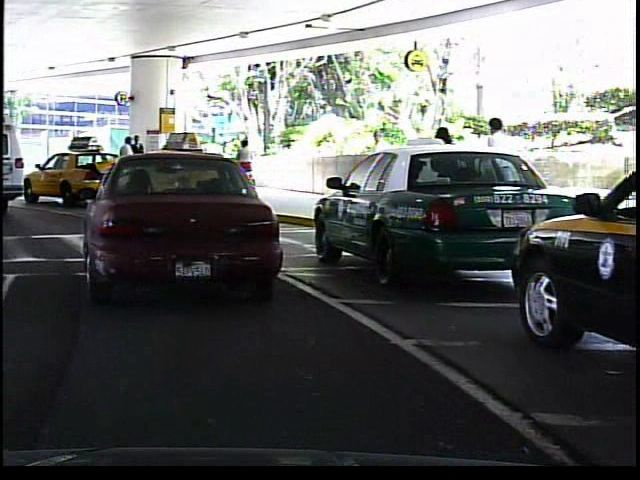person: (475, 111, 523, 229), (421, 118, 467, 225), (361, 120, 394, 202), (234, 135, 257, 192), (116, 134, 136, 189), (131, 130, 148, 187)
